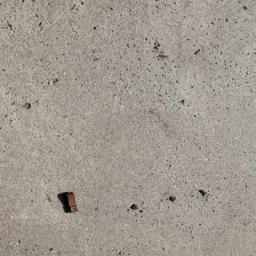FOD: (57, 191, 81, 216)
